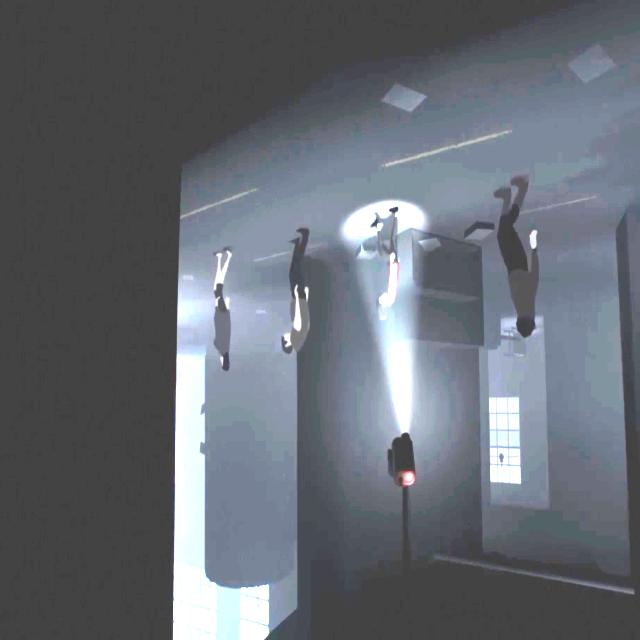boy: (375, 206, 398, 318)
zombie: (496, 178, 539, 339), (281, 229, 310, 355), (214, 248, 232, 370)
